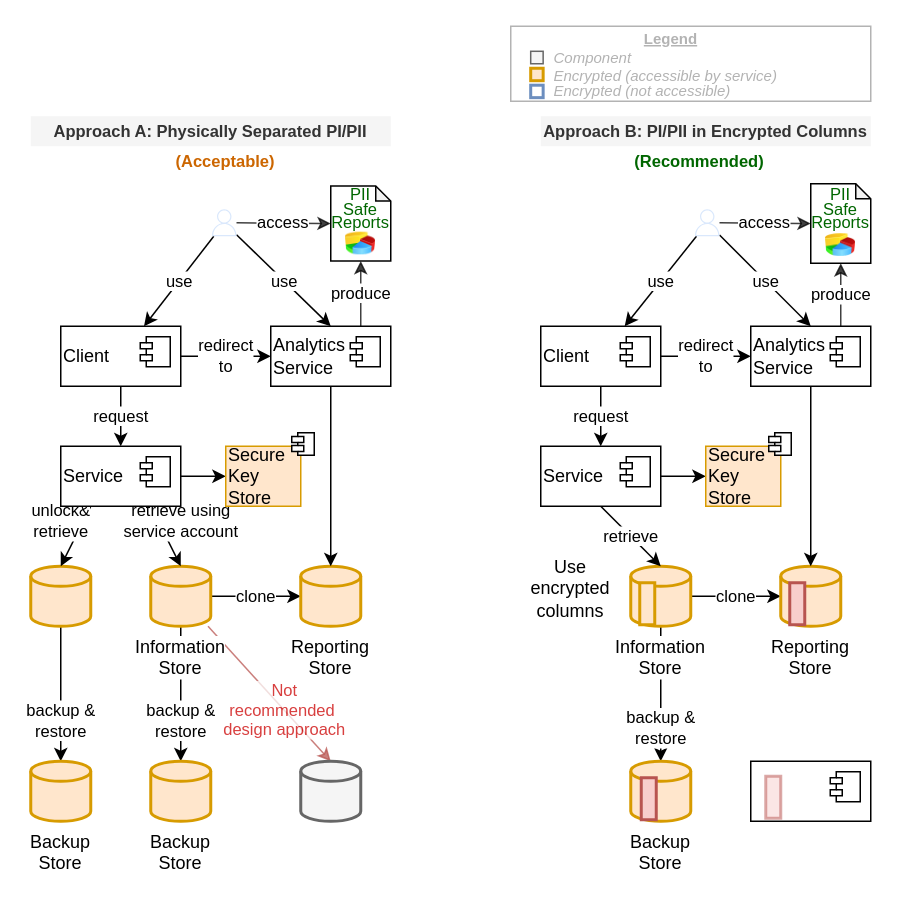
The diagram is 897 pixels wide and 902 high, and some of its shapes have lost their labels. Here are the shapes that lost their labels. From the top down, the centre of each, then its label:
[60,595]: PII Store
[330,790]: Archive Store
[810,790]: Data warehouse
